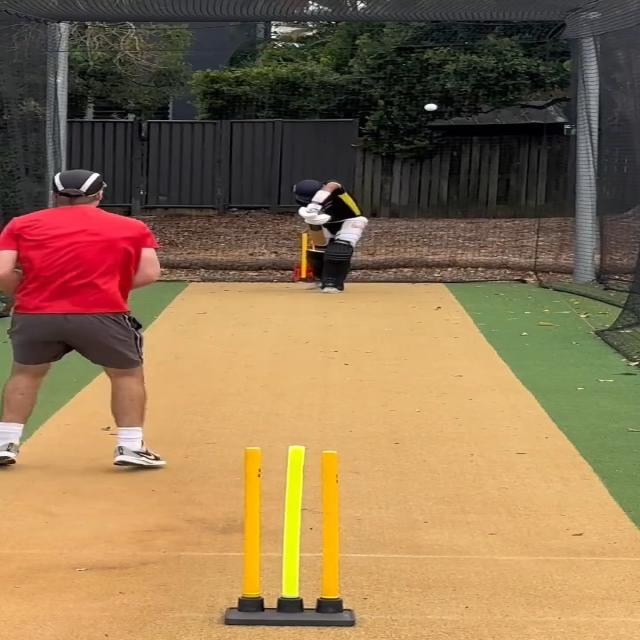ball: (424, 103, 439, 112)
stump: (220, 446, 358, 628)
